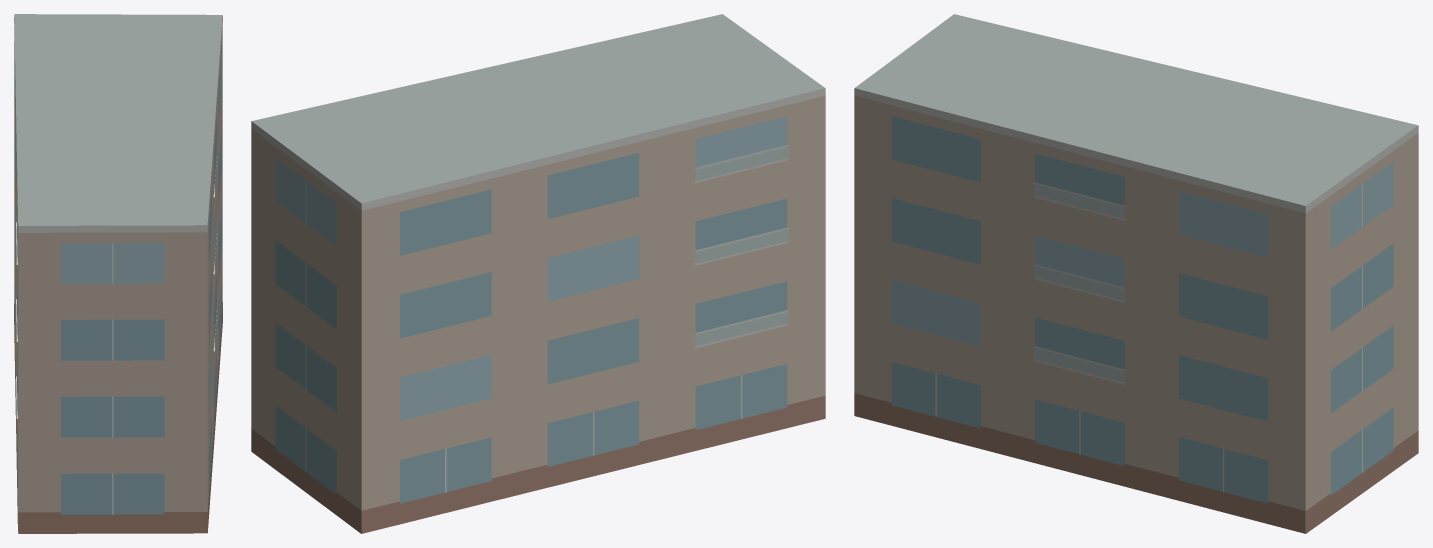
File: survey-upis-33026934.glb
3 renders of one model, left to right at view 1: azimuth 30°, elevation 25°; view 2: azimuth 150°, elevation 25°; view 3: azimuth 270°, elevation 25°, orthographic. The views are drawn at different scales.
Visible parts, largest first — view 1: survey-upis-33026934.tmp; view 2: survey-upis-33026934.tmp; view 3: survey-upis-33026934.tmp.
Part boxes in pixels (x1,y1,x2,y2): survey-upis-33026934.tmp: (14,14,222,533); survey-upis-33026934.tmp: (251,14,825,533); survey-upis-33026934.tmp: (854,14,1418,533).
Size of the model in its own units: 13.58 by 10.8 by 16.85.
